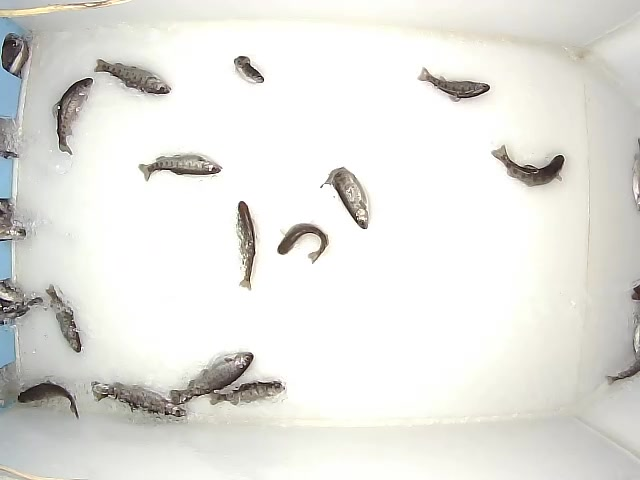fish: (169, 347, 257, 409), (90, 373, 185, 419), (52, 75, 96, 159), (493, 141, 568, 188), (319, 166, 371, 231), (95, 55, 171, 98), (417, 65, 491, 105), (212, 377, 295, 410), (136, 151, 225, 181), (16, 380, 80, 418), (276, 221, 330, 264), (233, 200, 258, 292), (233, 53, 265, 86)
